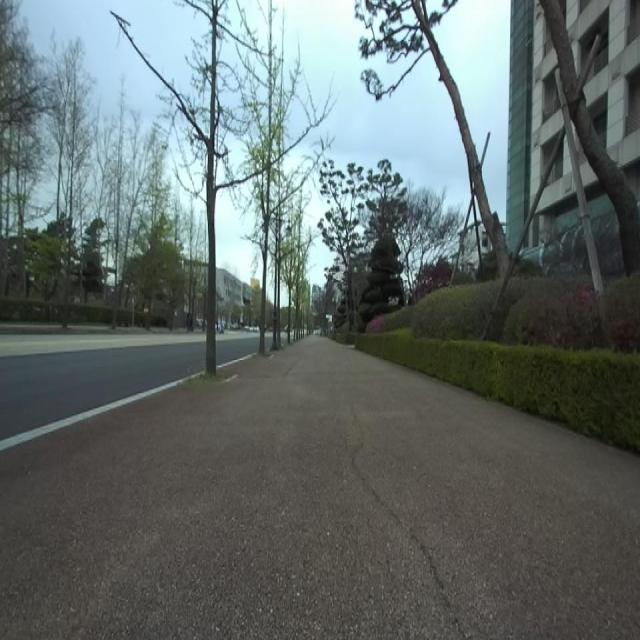sidewalk: (0, 337, 640, 639)
